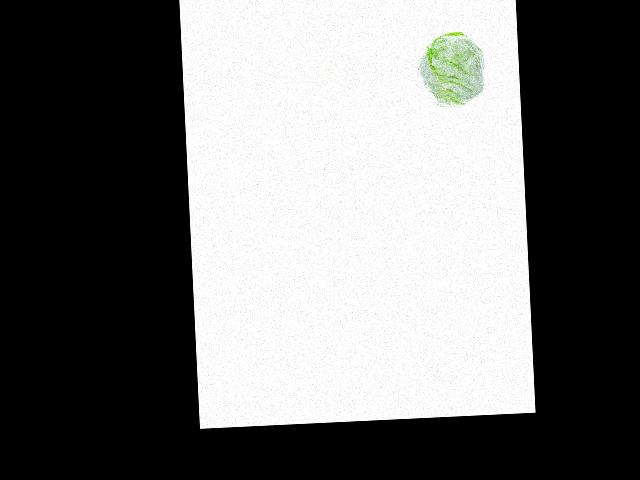lettuce: (417, 32, 483, 109)
